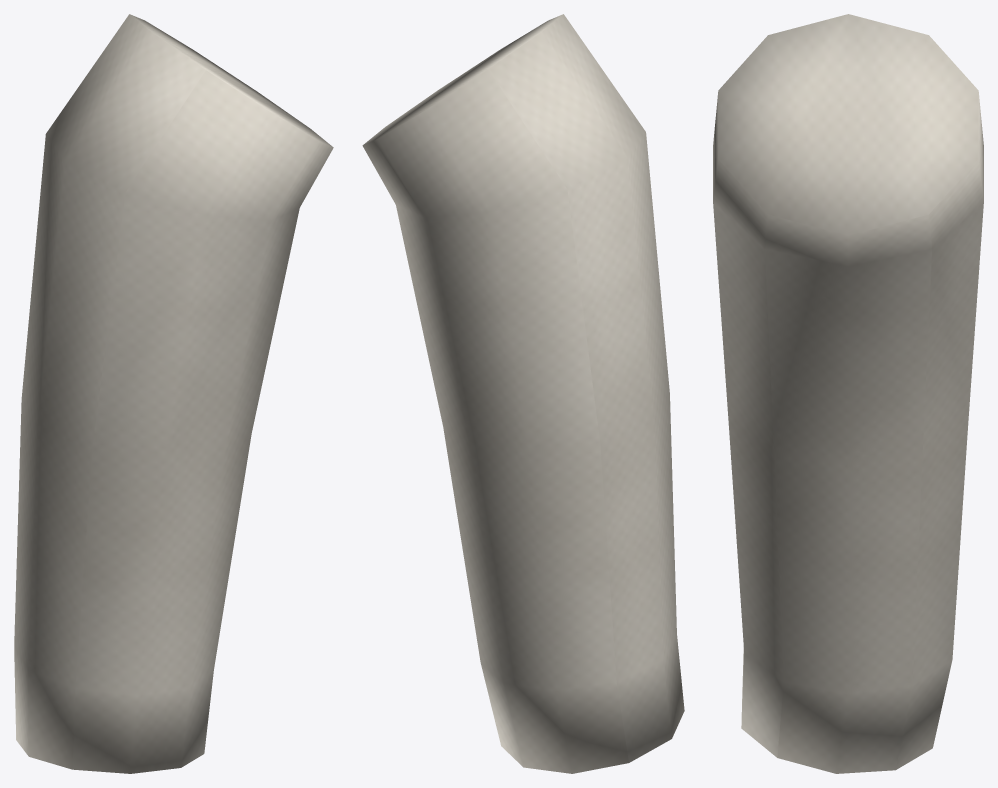
File: brazoder.obj
3 renders of one model, left to right at view 1: azimuth 30°, elevation 25°; view 2: azimuth 150°, elevation 25°; view 3: azimuth 270°, elevation 25°, orthographic. The views are drawn at different scales.
Visible parts, largest first — view 1: BrazoDer; view 2: BrazoDer; view 3: BrazoDer.
Part boxes in pixels (x1,y1,x2,y2): BrazoDer: (14,14,333,773); BrazoDer: (362,14,684,773); BrazoDer: (713,14,983,773).
Size of the model in its own units: 0.0836 by 0.1987 by 0.0653.
Materials: 1 (1 with a texture image).
